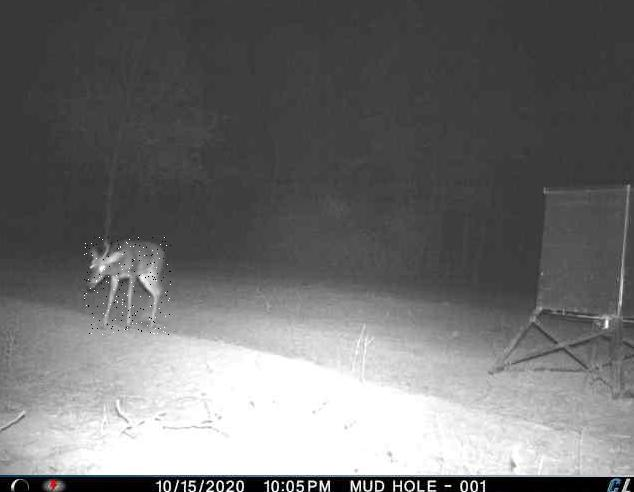Deer: (84, 237, 171, 335)
